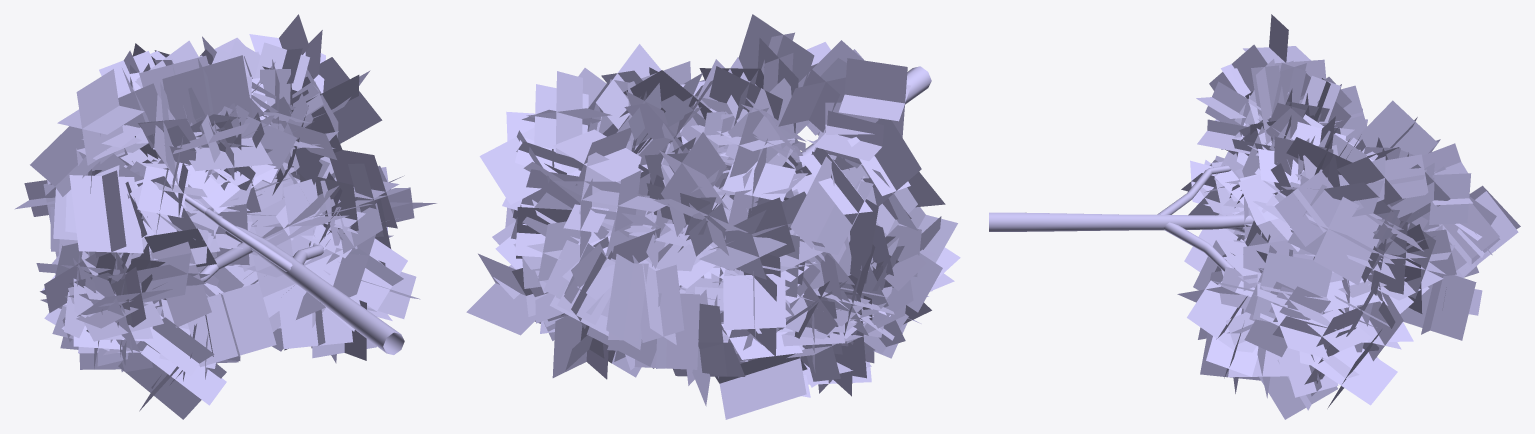
Rendered from LOD_YellowTree.FBX.
The picture shows the model from 3 angles, left to right: view 1: azimuth 30°, elevation 25°; view 2: azimuth 150°, elevation 25°; view 3: azimuth 270°, elevation 25°; orthographic projection. The views are drawn at different scales.
Visible parts, largest first — view 1: YellowTree_LOD0; view 2: YellowTree_LOD0; view 3: YellowTree_LOD0.
Boxes of the visible parts, box(x1,y1,x2,y2) form: YellowTree_LOD0: box(14, 14, 436, 419); YellowTree_LOD0: box(466, 14, 960, 419); YellowTree_LOD0: box(989, 14, 1520, 419).
Size of the model in its own units: 708 by 941 by 583.
